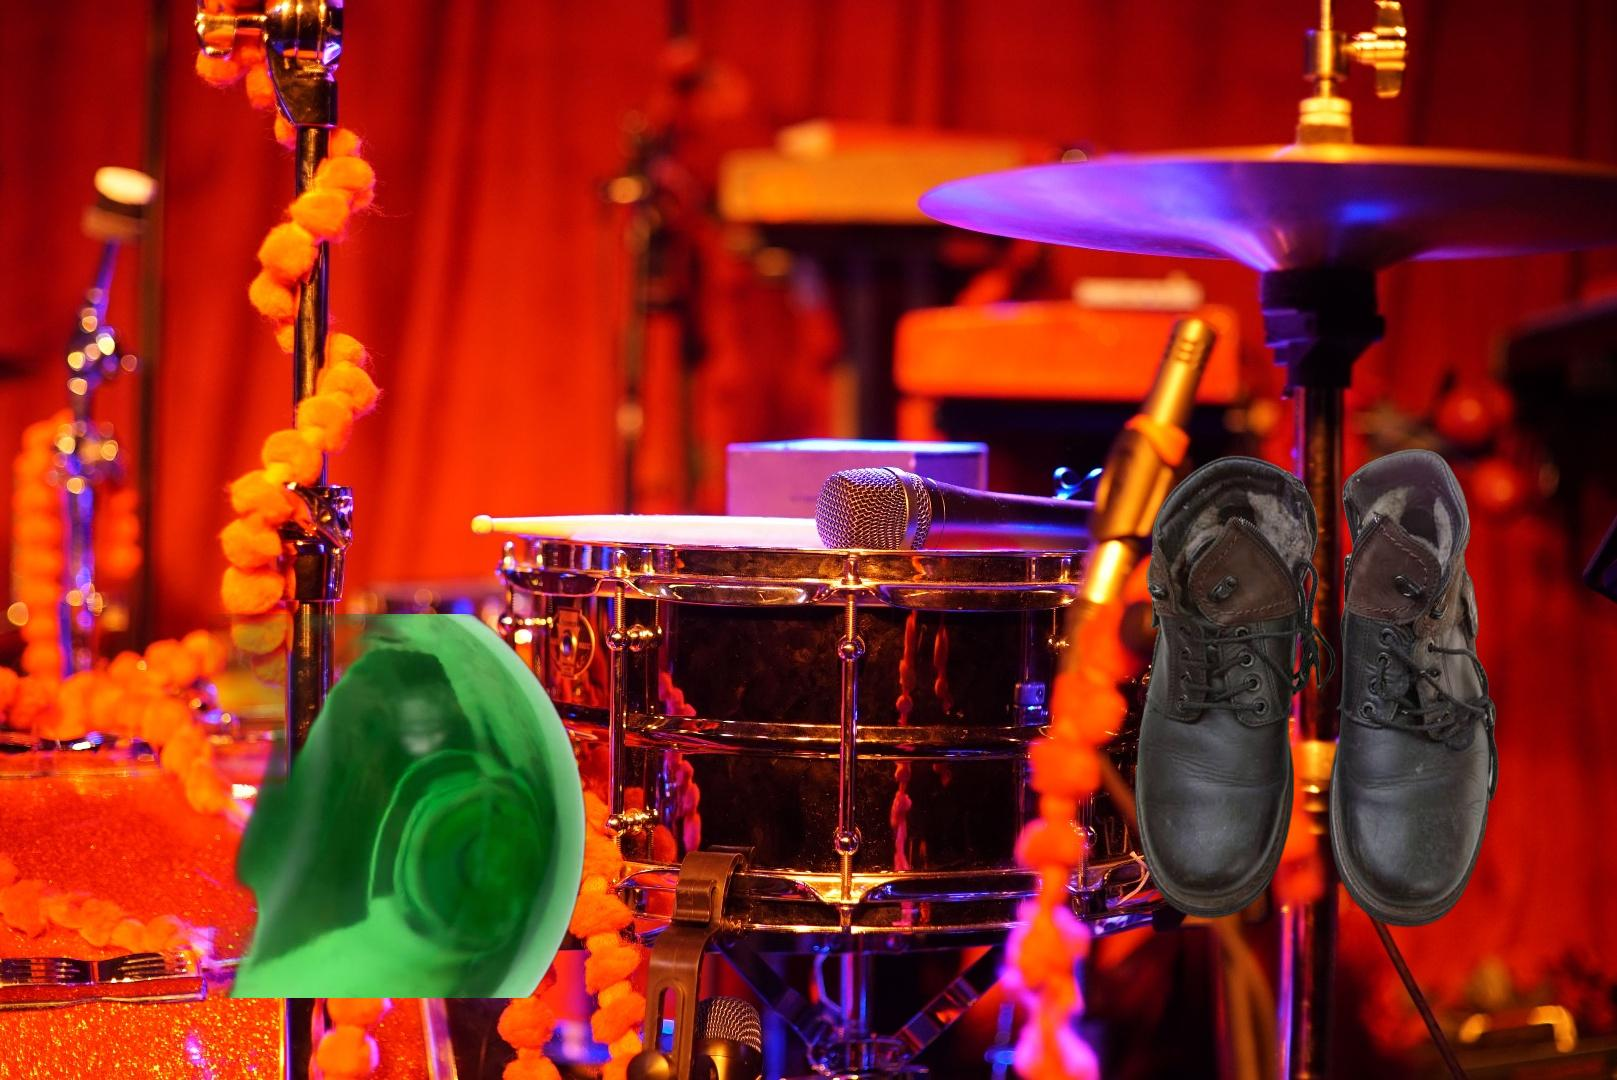battery: (880, 918, 1411, 1080)
glass: (208, 614, 590, 998)
shoes: (1131, 444, 1503, 932)
